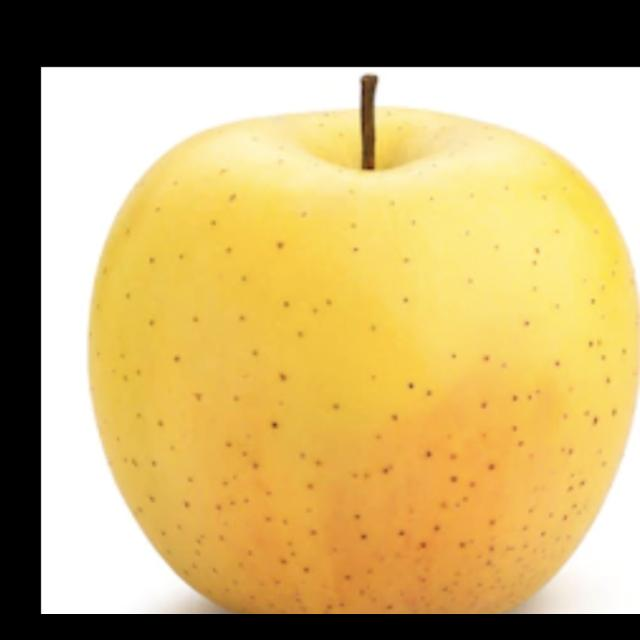Apel Segar: (70, 76, 640, 614)
